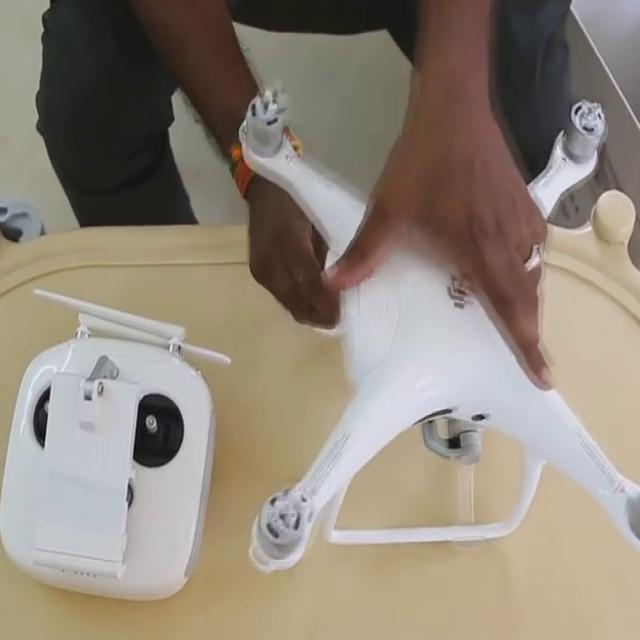drone: (209, 71, 640, 602)
